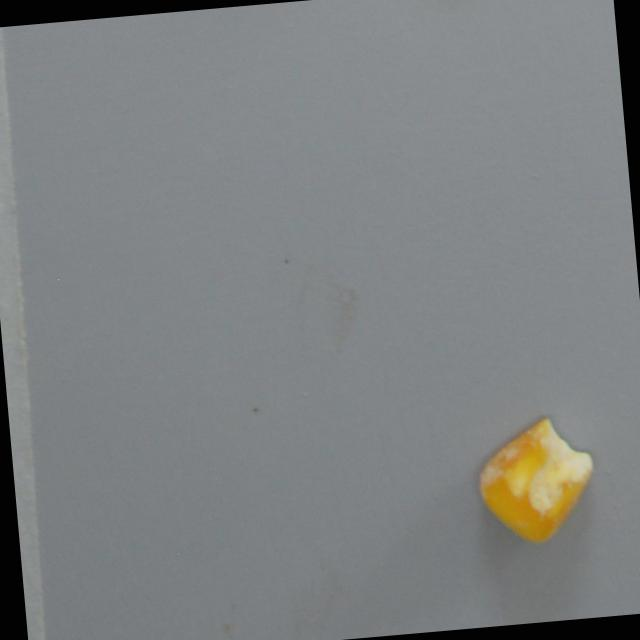pelicula: (472, 414, 600, 552)
